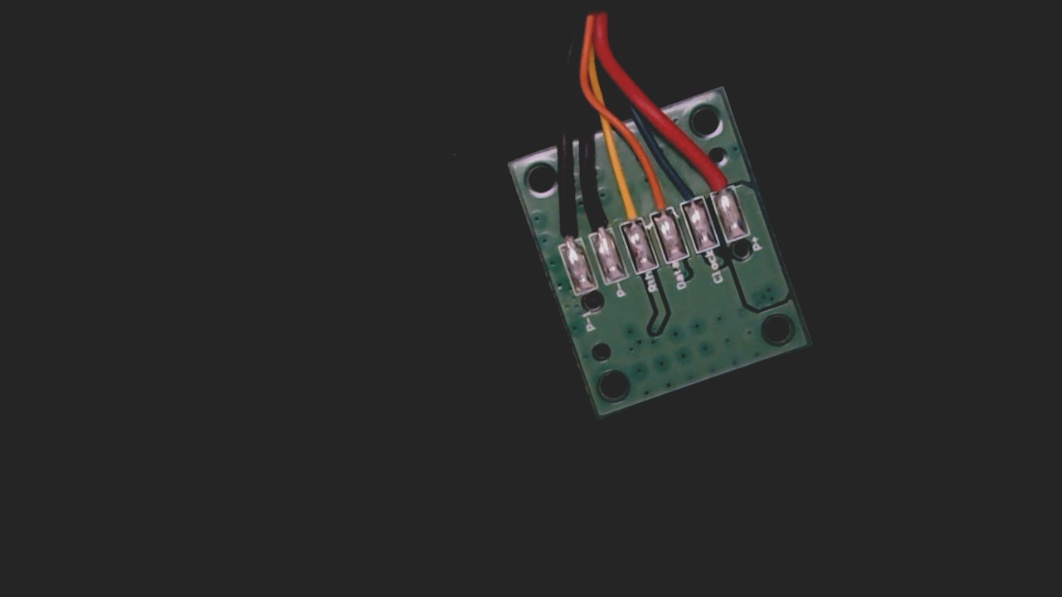Black: (576, 196, 617, 250)
Black1: (546, 206, 586, 261)
Green: (667, 165, 710, 219)
Orange: (635, 168, 679, 229)
Red: (695, 149, 739, 210)
Yellow: (605, 182, 647, 239)
